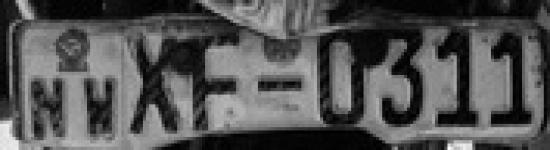-: (253, 72, 309, 99)
0: (314, 28, 372, 130)
1: (483, 24, 542, 132), (433, 26, 483, 133)
3: (376, 25, 432, 132)
F: (186, 26, 252, 134)
N: (26, 73, 70, 142)
W: (80, 74, 125, 142)
X: (122, 28, 186, 134)
